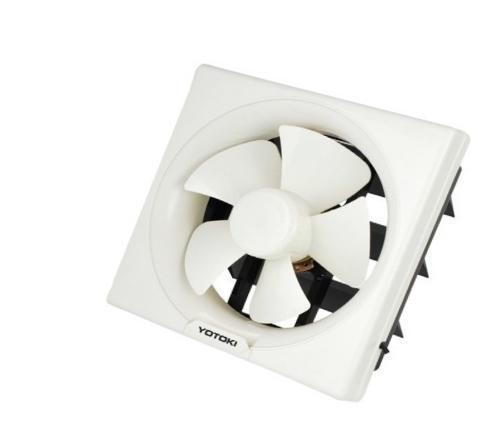fan: (63, 60, 492, 412)
